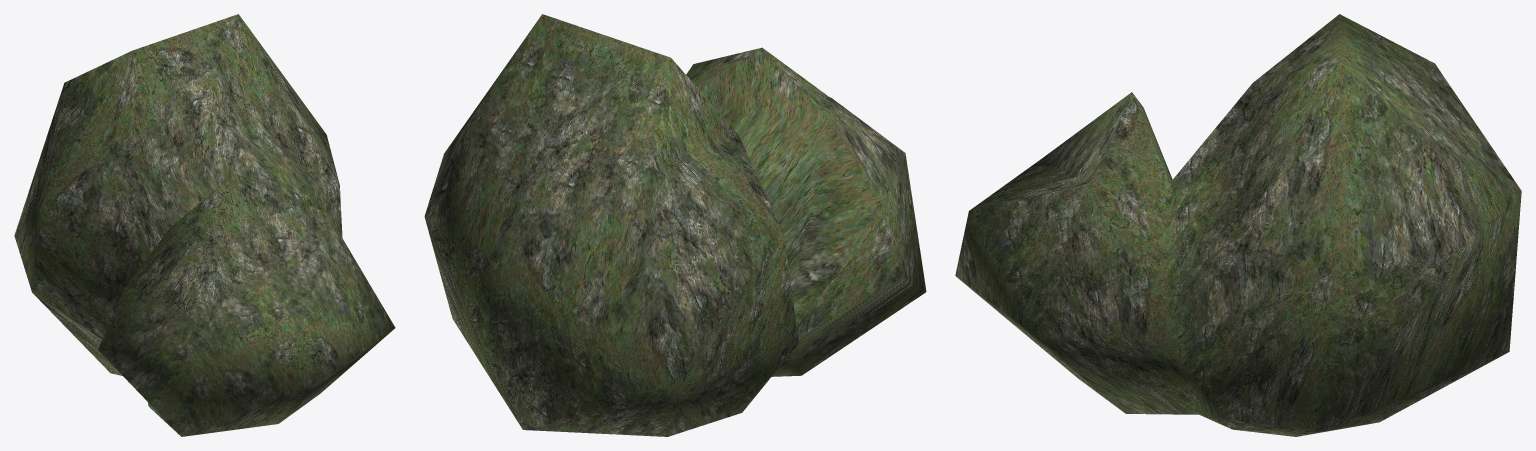
The model's file is mtns_rock_moss_l2.fbx.
3 renders of one model, left to right at view 1: azimuth 30°, elevation 25°; view 2: azimuth 150°, elevation 25°; view 3: azimuth 270°, elevation 25°, orthographic. The views are drawn at different scales.
Parts seen in each view (by area): view 1: mesh_node; view 2: mesh_node; view 3: mesh_node.
Boxes of the visible parts, left/top/right/bottom form: mesh_node: left=14, top=14, right=395, bottom=436; mesh_node: left=424, top=14, right=926, bottom=436; mesh_node: left=955, top=14, right=1521, bottom=436.
Size of the model in its own units: 2.68 by 2.62 by 3.73.
